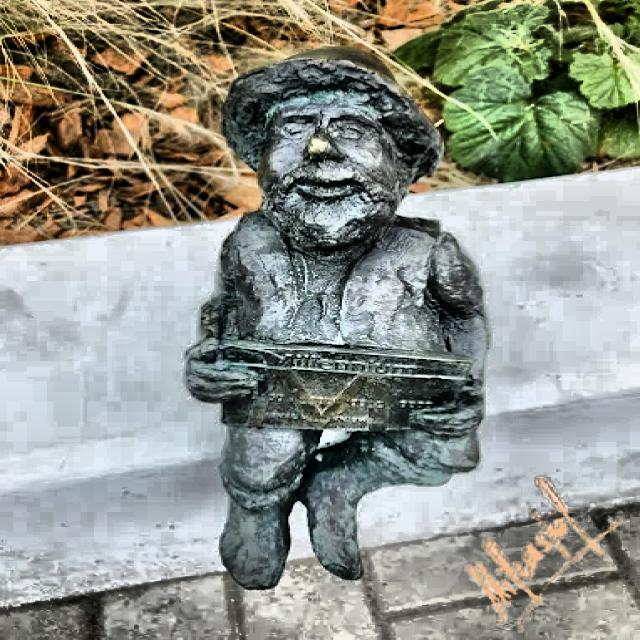Krasnal_Millenniowski: (184, 46, 491, 592)
